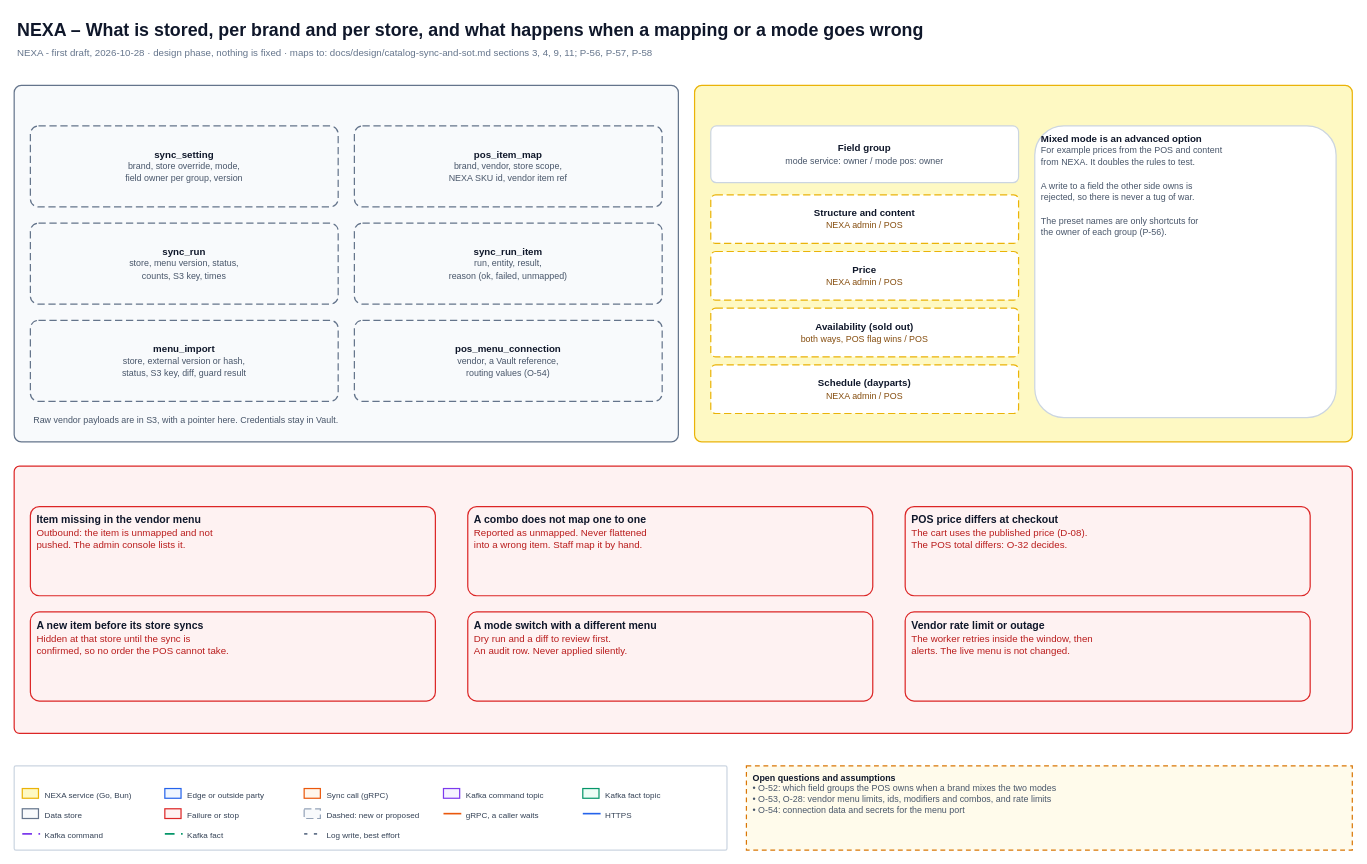
Some shapes in this 1367 by 864 pixel diagram are drawn without their labels. The box of each missing label's shape, as (x1, y1, x2, y2) in pixels:
Legend: (13, 765, 727, 850)
One writer for each field group (the two presets): (694, 84, 1353, 442)
Stored in Catalog (Postgres). Names are proposals: (13, 84, 679, 442)
What happens when something goes wrong: (13, 465, 1353, 734)
